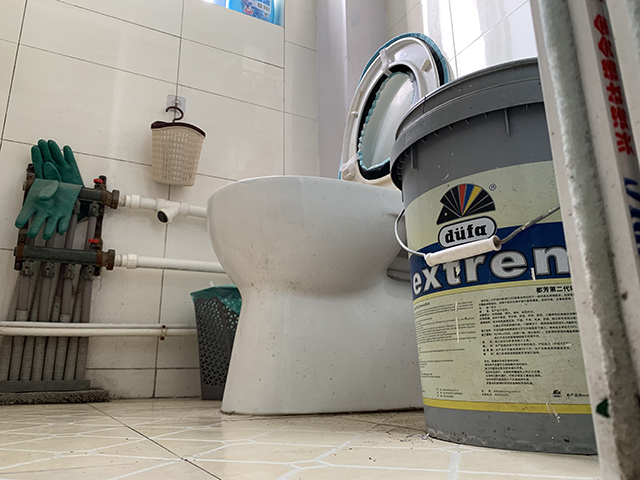closestool: (205, 25, 446, 418)
trashcan: (189, 285, 243, 402)
